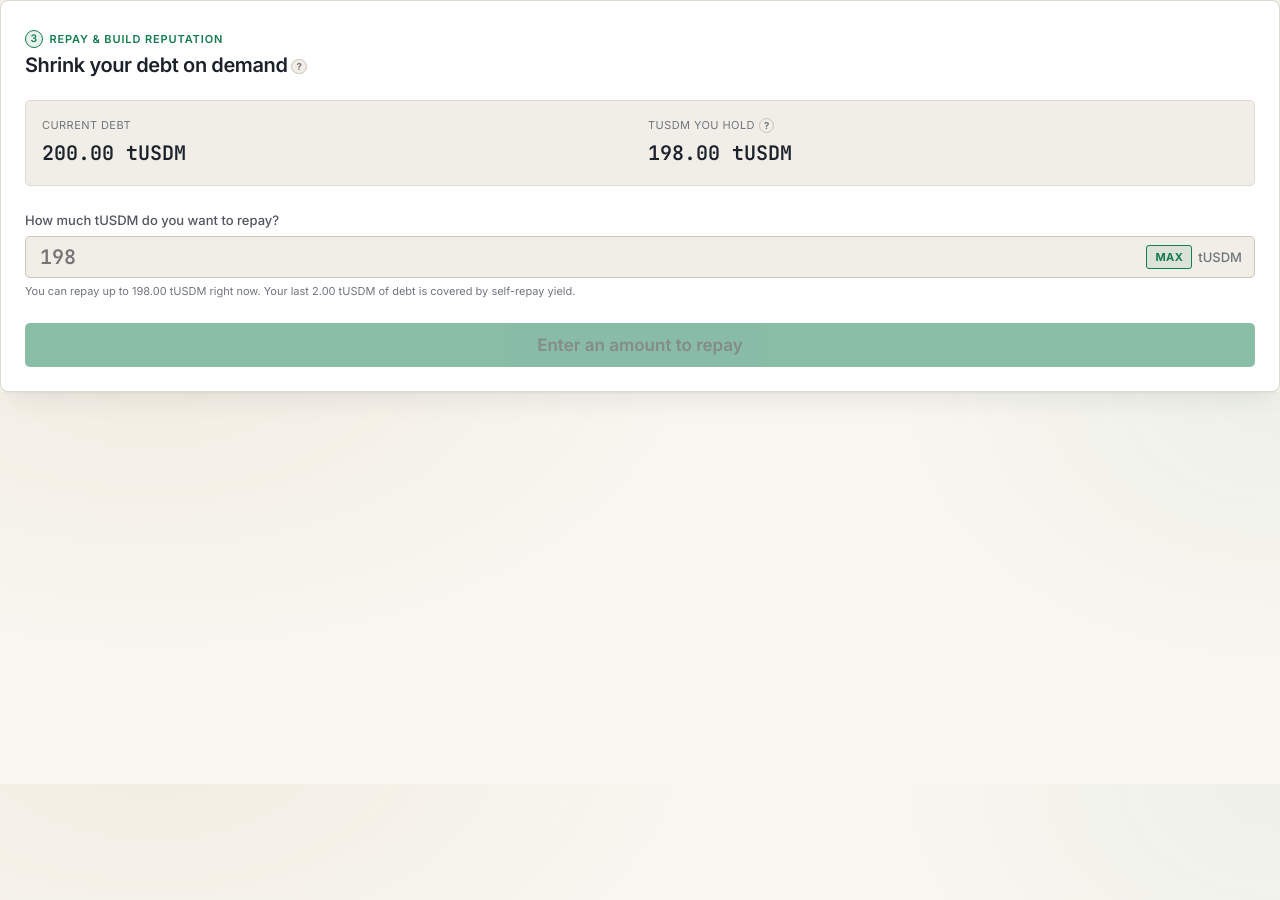
RepayPanel › submits a repay and shows the tx hash
In the field labelled "How much tUSDM do you want to repay?": (589, 258) [38,244,1140,272], type "50"
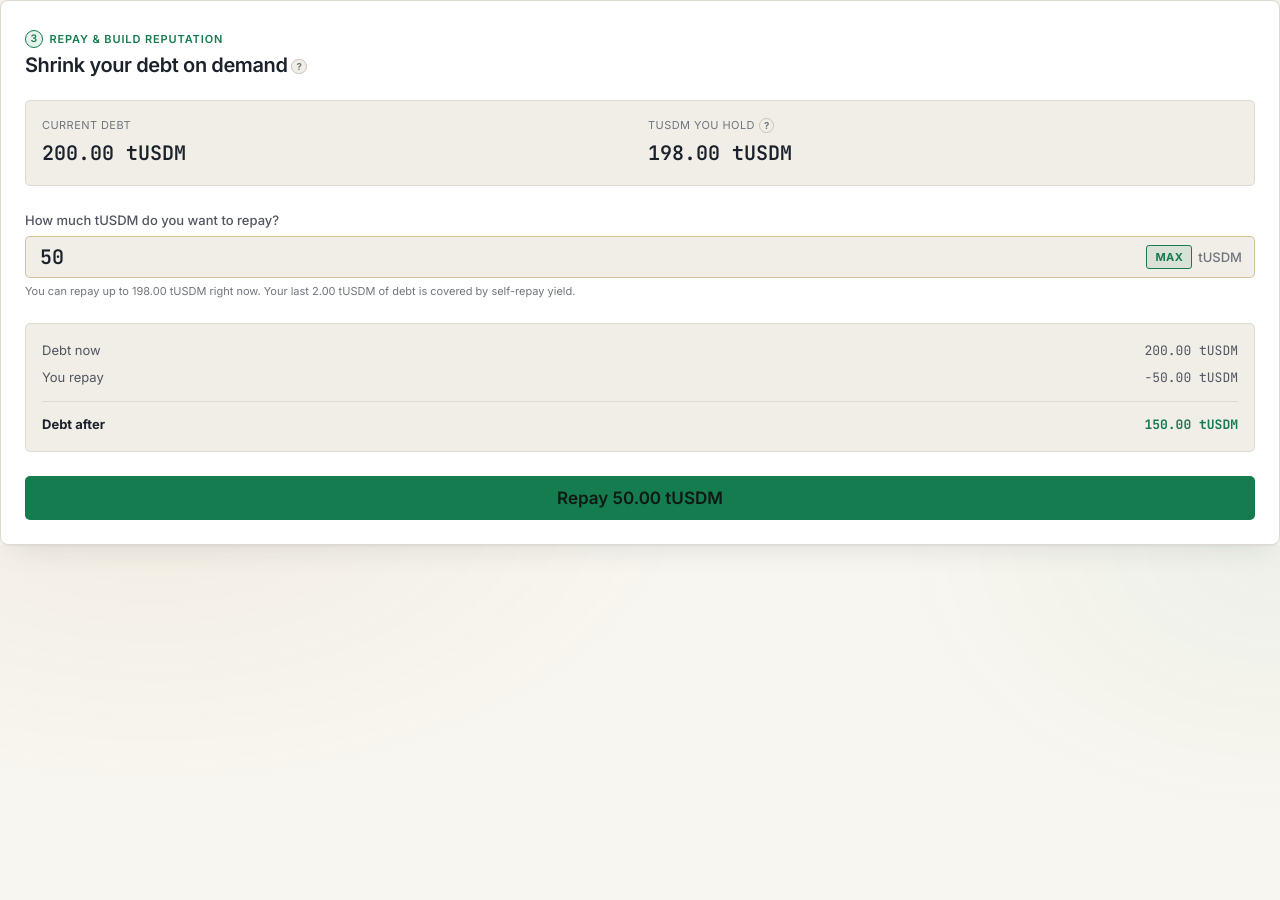
Click the button "Repay 50.00 tUSDM": (640, 498) [25,476,1255,520]
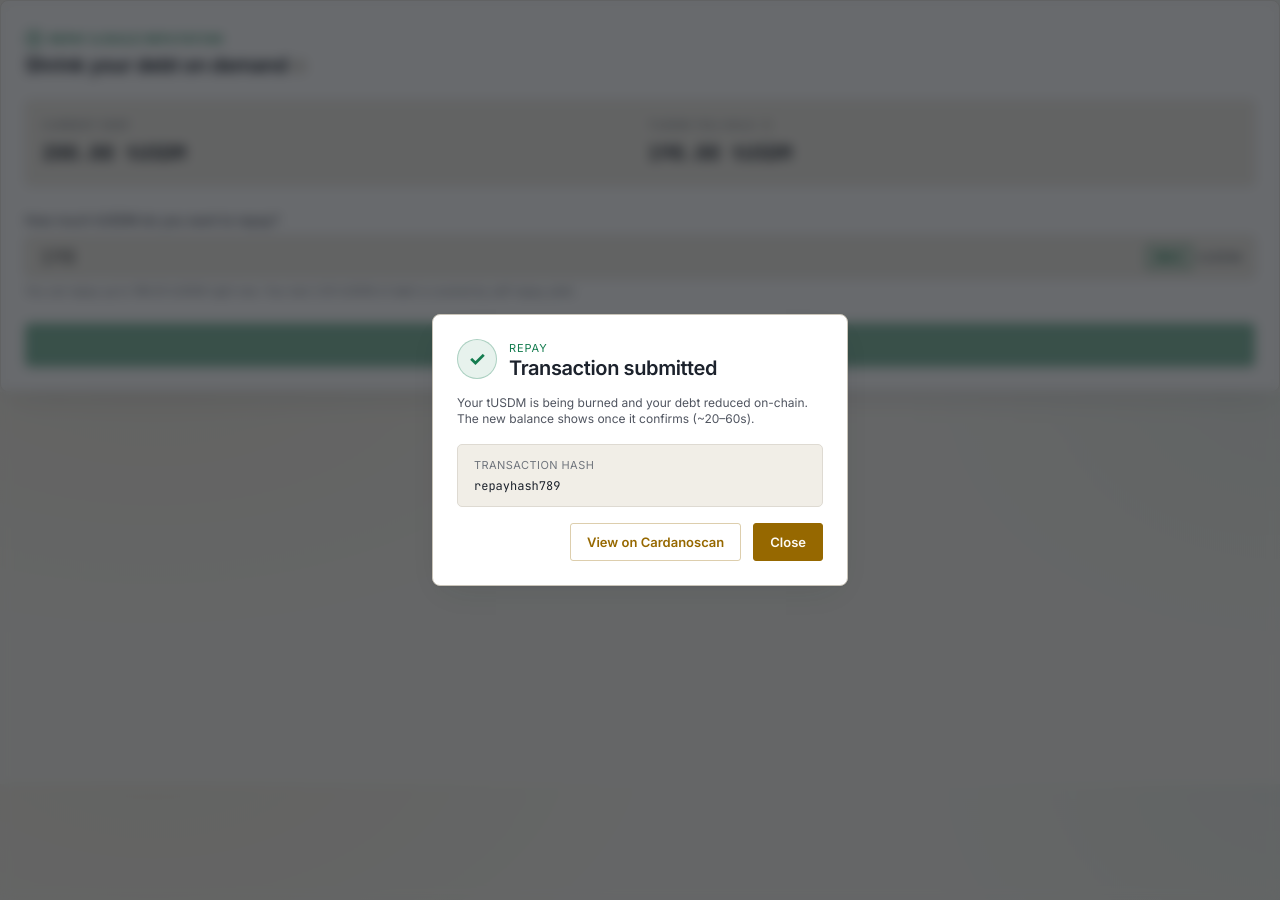
Expected: the dialog shows "Transaction submitted", [509,356,717,380]
Expected: the dialog shows "repayhash789", [474,478,560,494]
